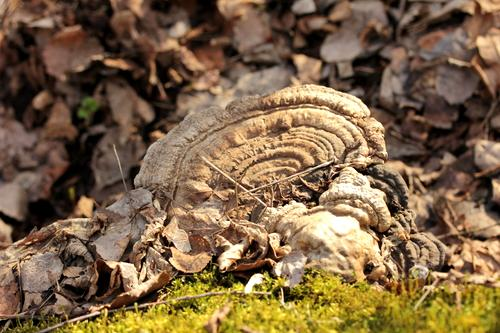Ganoderma - Fruit Body: (138, 84, 391, 221)
